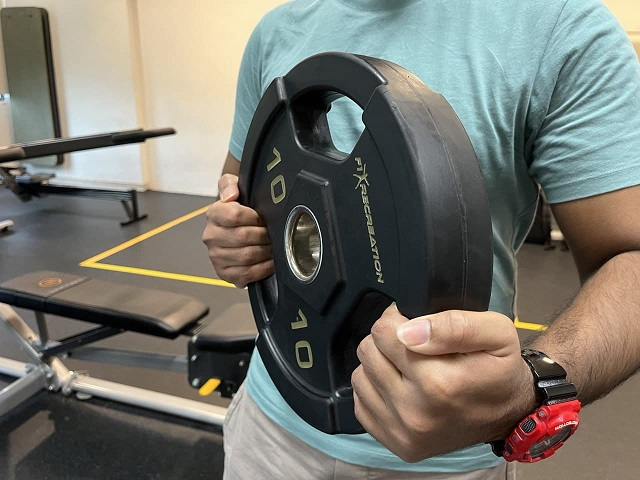weights: (231, 48, 496, 434)
